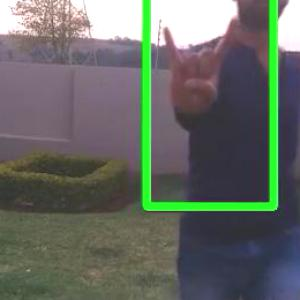takeoff-hand: (152, 10, 241, 116)
